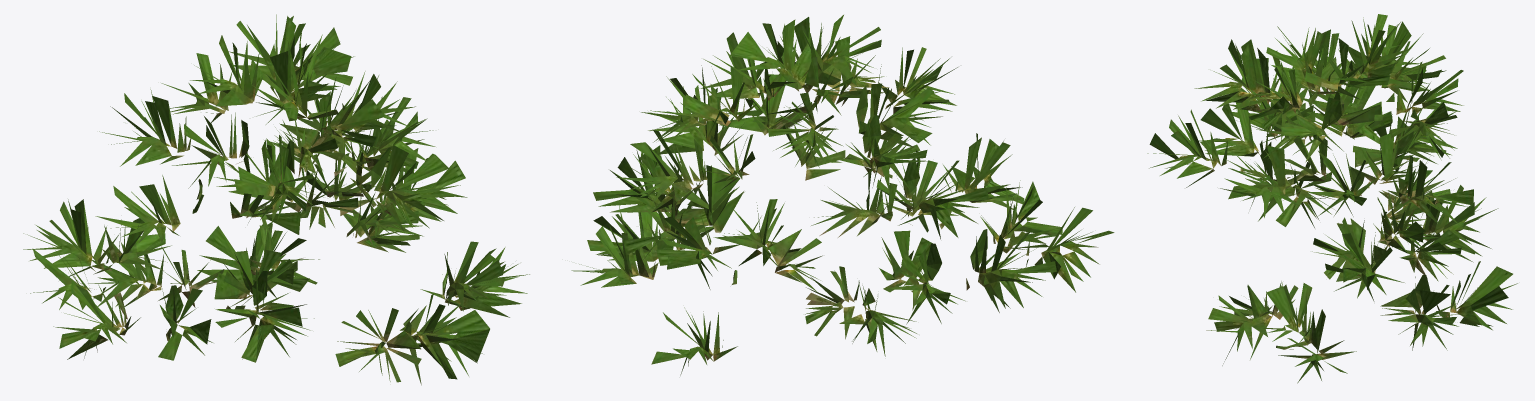
Rendered from leaf_su.glb.
3 views of the same model, side by side, from view 1: azimuth 30°, elevation 25°; view 2: azimuth 150°, elevation 25°; view 3: azimuth 270°, elevation 25° (orthographic). The views are drawn at different scales.
Visible parts, largest first — view 1: geometry_0; view 2: geometry_0; view 3: geometry_0.
Part boxes in pixels (left/top/right/bottom): geometry_0: left=23, top=14, right=529, bottom=385; geometry_0: left=571, top=15, right=1114, bottom=375; geometry_0: left=1147, top=14, right=1517, bottom=383.
Bounding box in the file's own units: 0.393 × 0.2366 × 0.2855.
Materials: 1 (1 with a texture image).
